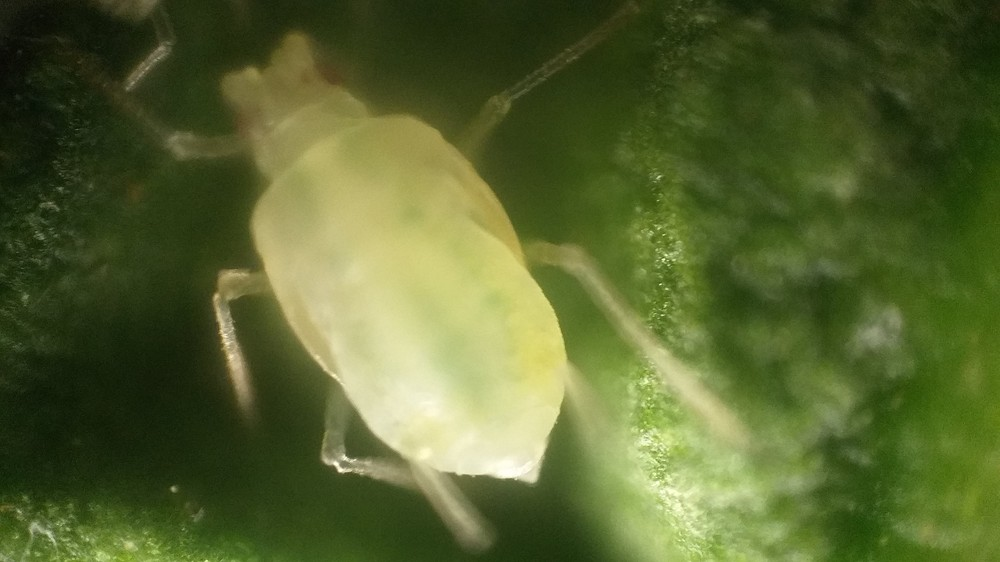Pulgon: (124, 5, 755, 557)
